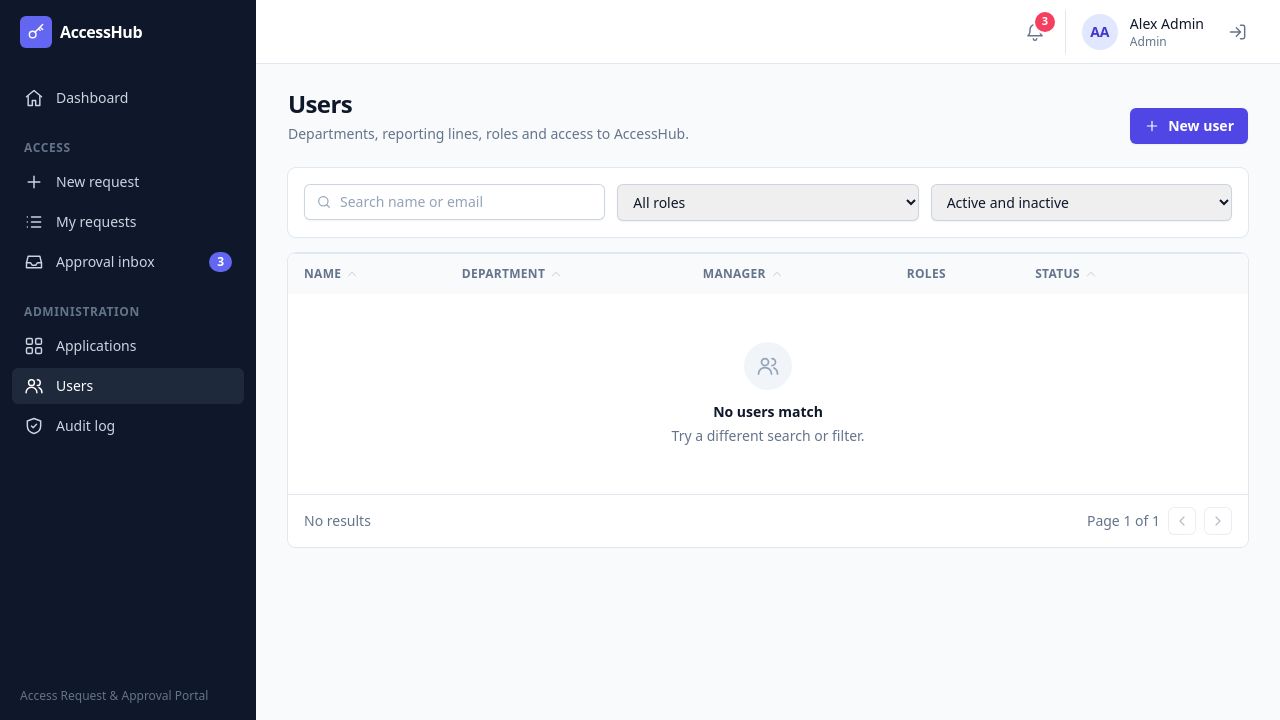
Layout › signing out lands on a clean login page (no return to the previous page)
Step 1. Click the button named "Sign out" → (1238, 32), box [1220,14,1256,50]
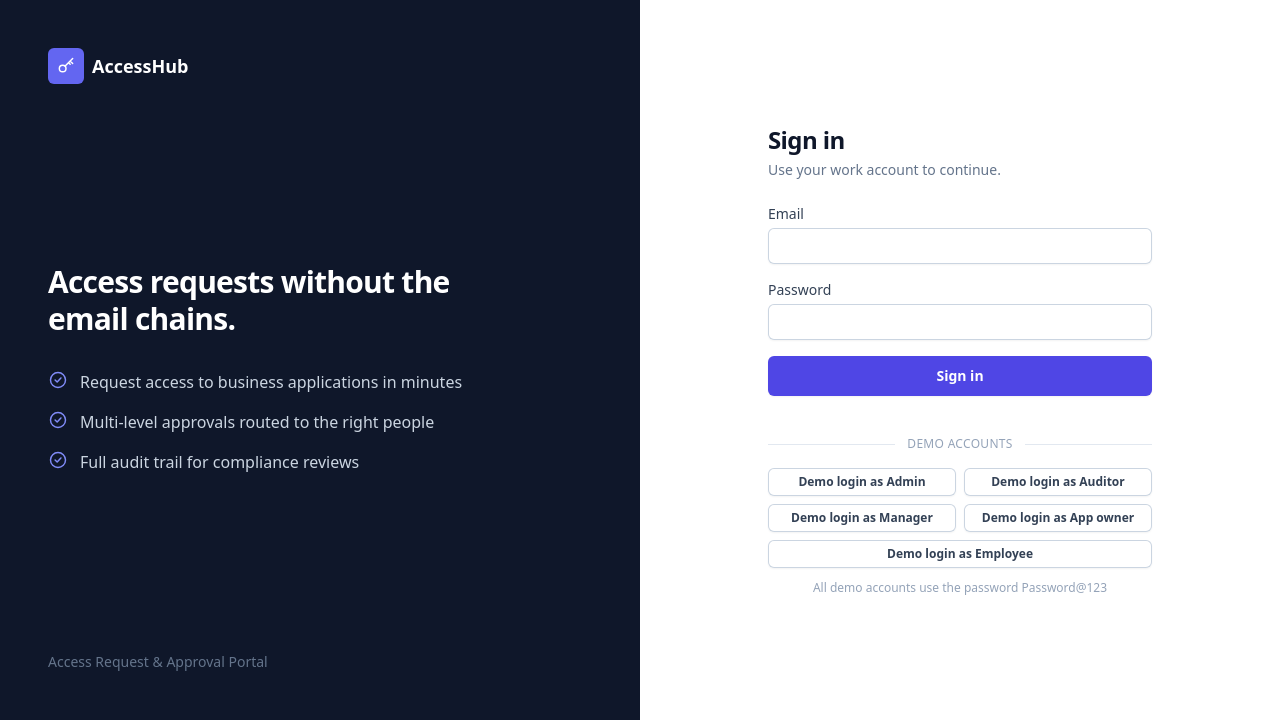
Now the heading "Sign in" is shown, box [768,123,845,156]
Note: A different user signing in next goes to the dashboard, not to /admin/users (403 for them).
Step 2. Click the button "Demo login as Employee" → (960, 554), box [768,540,1152,568]
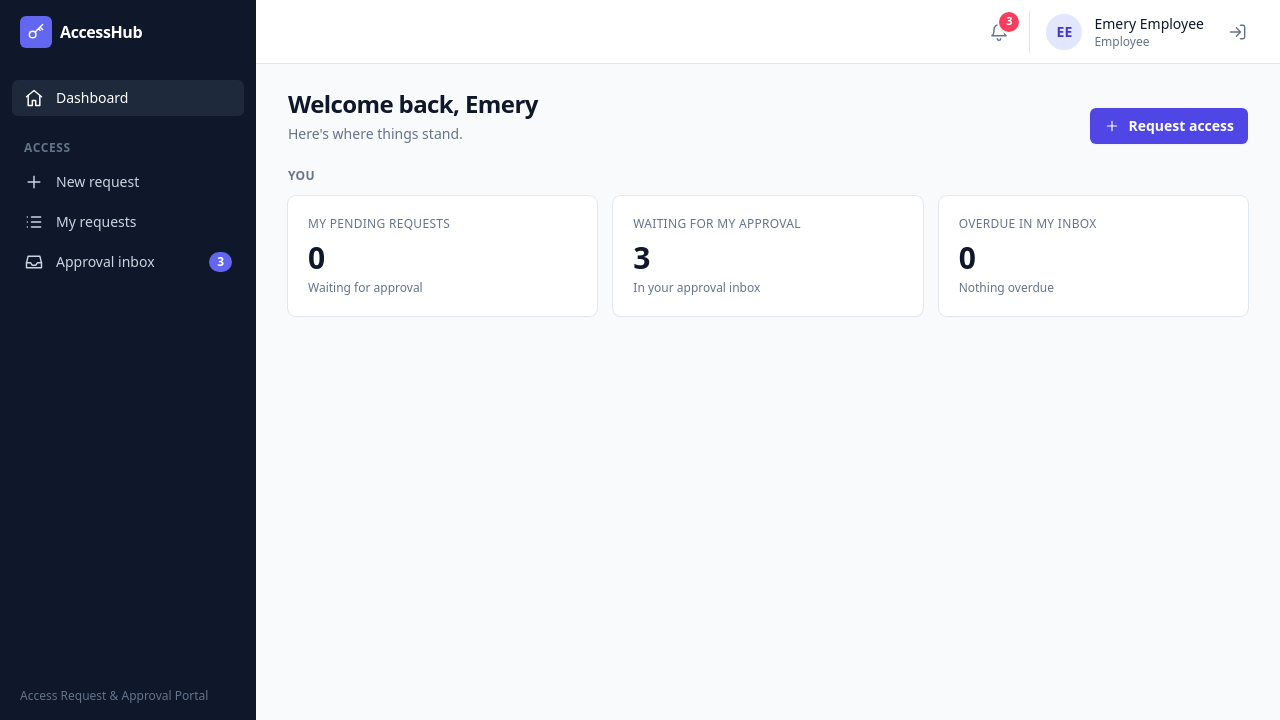
Now the heading "Welcome back, Emery" is shown, box [288,88,538,120]
